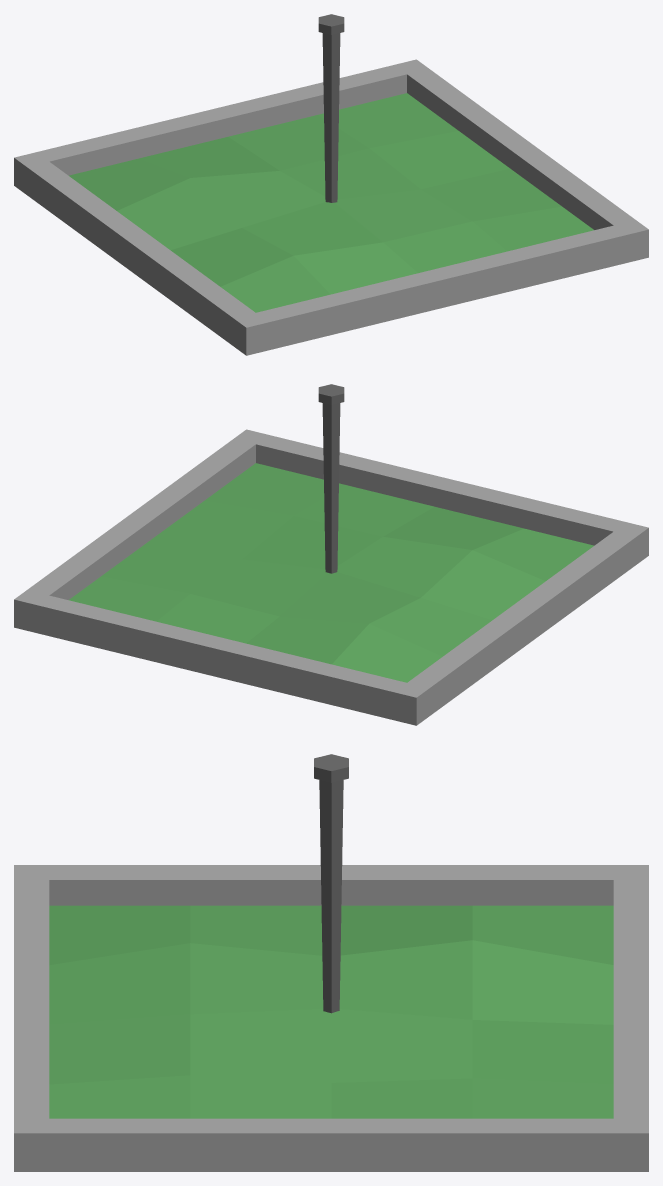
Rendered from HoreshoeHitBox.fbx.
3 renders of one model, top to bottom at view 1: azimuth 30°, elevation 25°; view 2: azimuth 150°, elevation 25°; view 3: azimuth 270°, elevation 25°, orthographic. The views are drawn at different scales.
Parts seen in each view (by area): view 1: pCube1, pCylinder1; view 2: pCube1, pCylinder1; view 3: pCube1, pCylinder1.
Part boxes in pixels (x1,y1,x2,y2): pCube1: [14, 59, 648, 355]; pCylinder1: [318, 14, 344, 202]; pCube1: [14, 429, 648, 725]; pCylinder1: [318, 384, 344, 573]; pCube1: [14, 865, 648, 1171]; pCylinder1: [314, 754, 348, 1013].
Size of the model in its own units: 1.12 by 0.5375 by 1.12.
